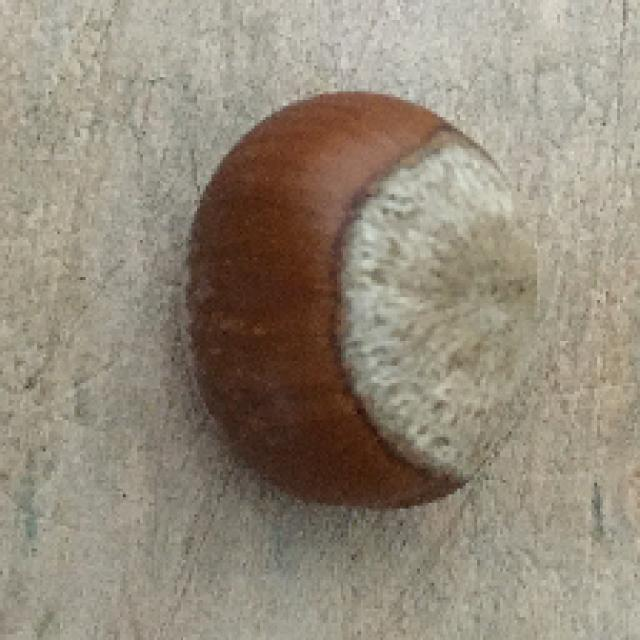QualityHazelnut: (178, 89, 545, 511)
